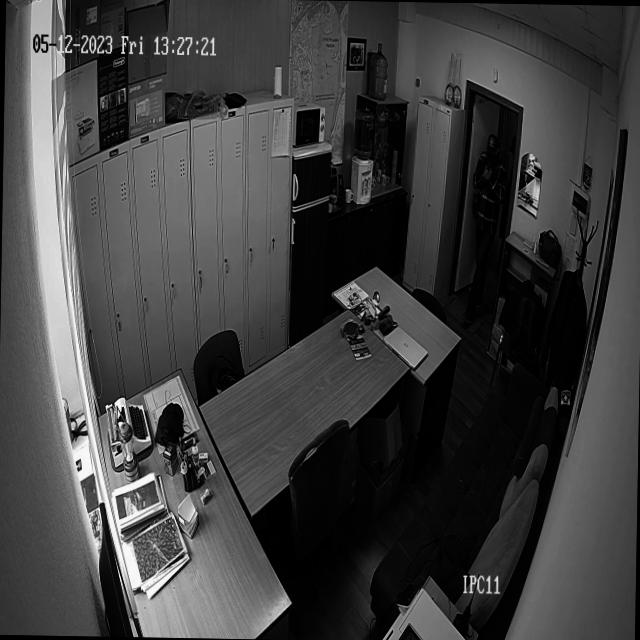gun: (484, 161, 492, 174)
person with a gun: (461, 130, 506, 331)
